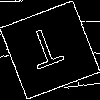T: (24, 25, 69, 78)
